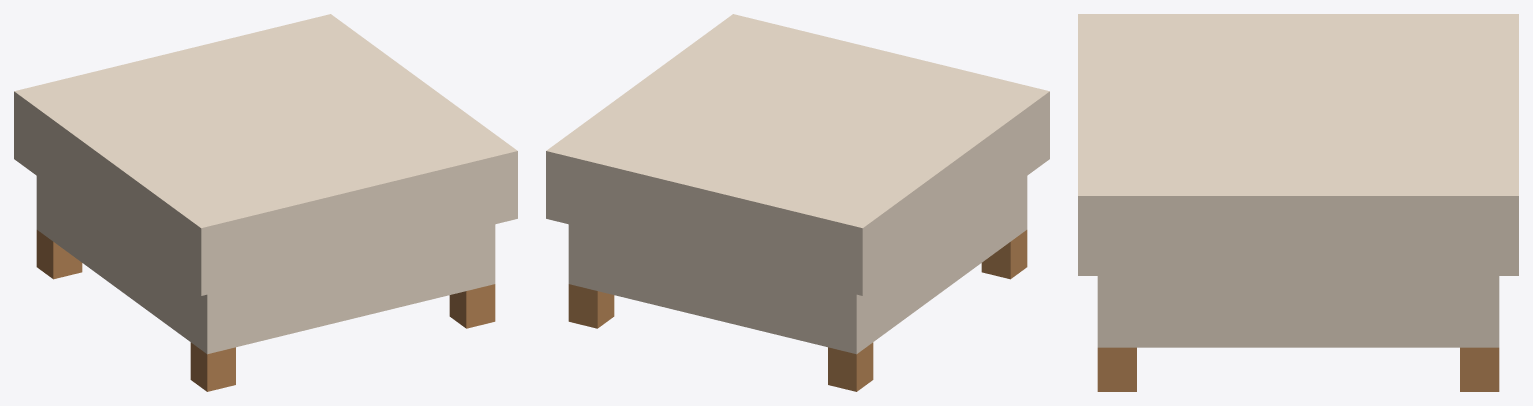
File: kitLoungeSofaOttoman.glb
The picture shows the model from 3 angles, left to right: view 1: azimuth 30°, elevation 25°; view 2: azimuth 150°, elevation 25°; view 3: azimuth 270°, elevation 25°; orthographic projection. The views are drawn at different scales.
Visible parts, largest first — view 1: kitLoungeSofaOttoman_fabric, kitLoungeSofaOttoman_wood; view 2: kitLoungeSofaOttoman_fabric, kitLoungeSofaOttoman_wood; view 3: kitLoungeSofaOttoman_fabric, kitLoungeSofaOttoman_wood.
Part boxes in pixels (x1=…): kitLoungeSofaOttoman_fabric: x1=14, y1=14, x2=517, y2=354; kitLoungeSofaOttoman_wood: x1=36, y1=230, x2=495, y2=391; kitLoungeSofaOttoman_fabric: x1=546, y1=14, x2=1049, y2=354; kitLoungeSofaOttoman_wood: x1=568, y1=230, x2=1027, y2=391; kitLoungeSofaOttoman_fabric: x1=1078, y1=14, x2=1518, y2=347; kitLoungeSofaOttoman_wood: x1=1097, y1=347, x2=1499, y2=391.
Size of the model in its own units: 0.8797 by 0.46 by 0.9.
